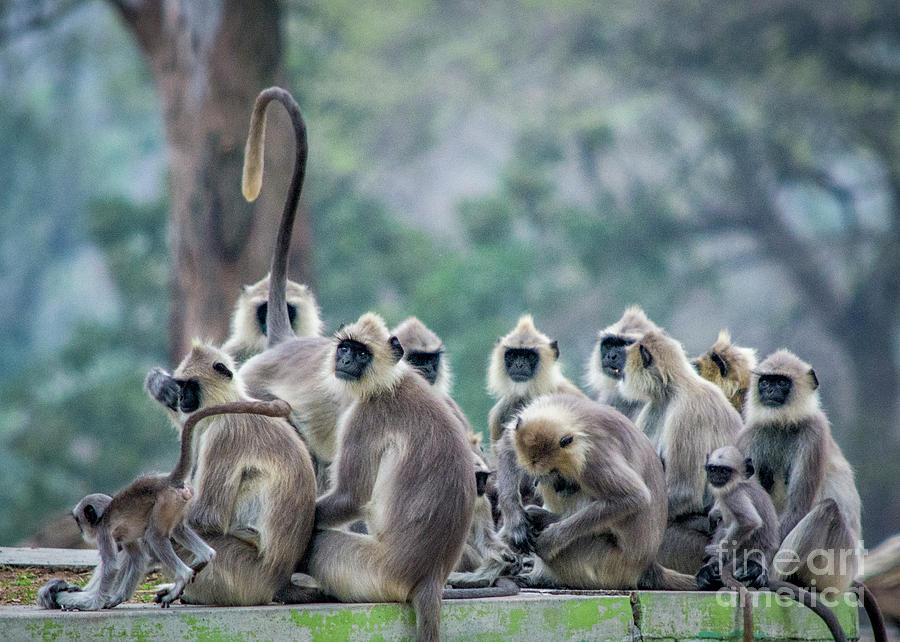monkey: (215, 73, 461, 461), (311, 311, 478, 636), (46, 395, 299, 603), (138, 338, 312, 609), (747, 346, 889, 642), (507, 388, 699, 596), (605, 321, 753, 589), (482, 307, 590, 425), (699, 444, 785, 573)
